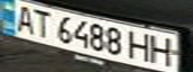4: (69, 18, 90, 48)
6: (51, 14, 75, 44)
8: (103, 25, 127, 56), (87, 21, 106, 52)
A: (9, 2, 39, 34)
H: (148, 34, 178, 68), (124, 29, 154, 62)
T: (30, 8, 57, 38)
